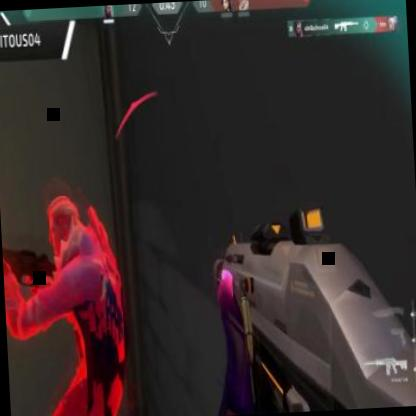enemy: (0, 190, 136, 416)
enemy_head: (44, 198, 84, 266)
